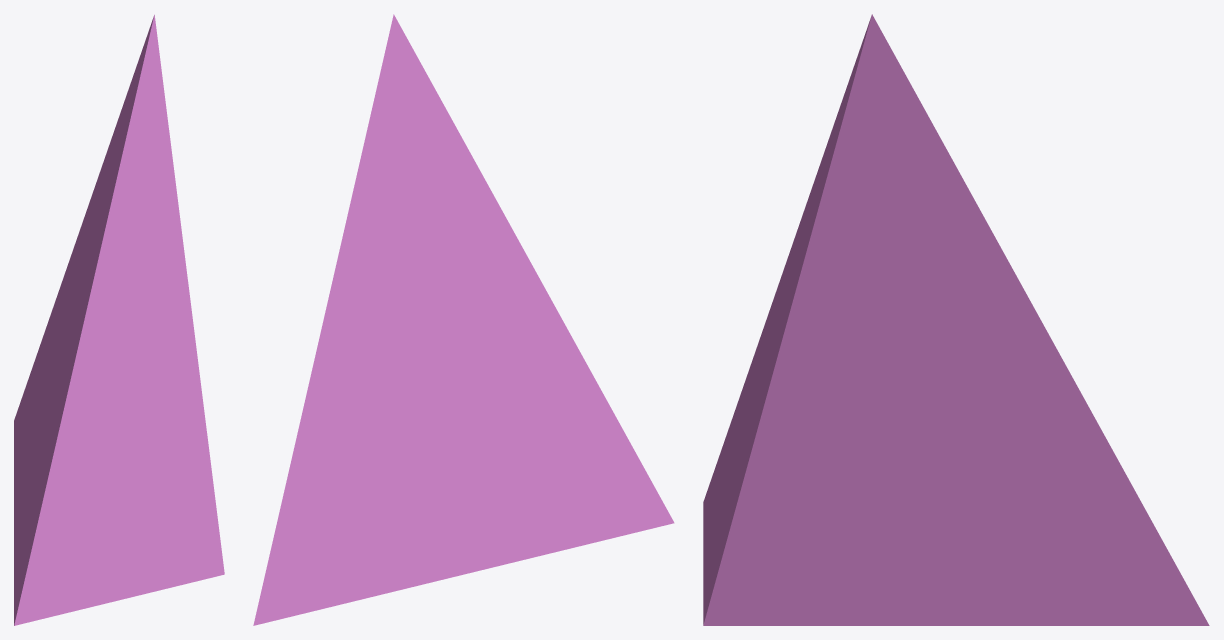
The model's file is Конус.001.gltf.
3 views of the same model, side by side, from view 1: azimuth 30°, elevation 25°; view 2: azimuth 150°, elevation 25°; view 3: azimuth 270°, elevation 25° (orthographic). The views are drawn at different scales.
Visible parts, largest first — view 1: Конус.001; view 2: Конус.001; view 3: Конус.001.
Boxes of the visible parts, x1=… form: Конус.001: x1=14, y1=14, x2=224, y2=625; Конус.001: x1=253, y1=14, x2=674, y2=625; Конус.001: x1=703, y1=14, x2=1209, y2=625.
Bounding box in the file's own units: 0.7317 × 1.69 × 1.27.
